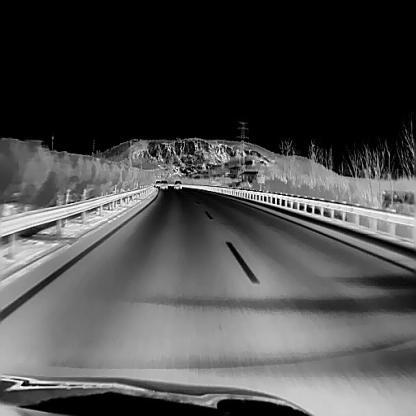car: (159, 179, 168, 189), (173, 179, 182, 188), (155, 180, 160, 186)
